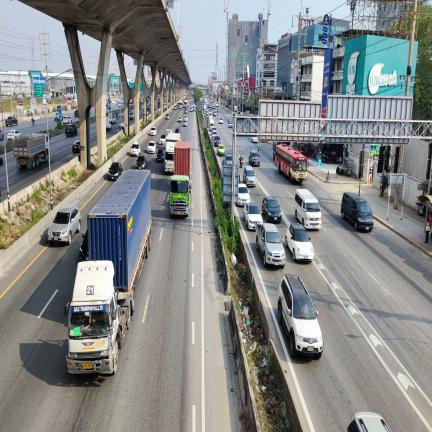bus: (275, 144, 307, 183)
car: (278, 274, 323, 358), (48, 204, 81, 245), (256, 223, 285, 268), (285, 221, 314, 262), (243, 203, 263, 229), (262, 197, 282, 222), (237, 183, 250, 206), (108, 162, 123, 181), (243, 166, 256, 187), (248, 150, 260, 166), (130, 140, 141, 157), (136, 155, 148, 169), (7, 130, 22, 141), (65, 124, 78, 136), (5, 116, 18, 126), (156, 149, 165, 162), (147, 141, 156, 153), (225, 152, 233, 165), (159, 135, 166, 148), (213, 135, 221, 146), (62, 116, 72, 124), (150, 127, 157, 136), (212, 127, 218, 136), (174, 128, 181, 135), (129, 111, 134, 119), (228, 120, 233, 128), (182, 120, 187, 127), (165, 113, 169, 120), (184, 115, 188, 122), (219, 118, 223, 124), (138, 156, 140, 158)
motorbike: (239, 159, 243, 169), (31, 119, 35, 125)
taxi: (217, 144, 225, 156), (178, 116, 183, 122)
truck: (168, 141, 191, 217), (12, 133, 48, 169), (165, 132, 181, 173), (106, 116, 112, 130)
truck trailer: (65, 170, 151, 374)
van: (341, 192, 373, 231), (295, 189, 321, 229), (165, 129, 173, 137)
